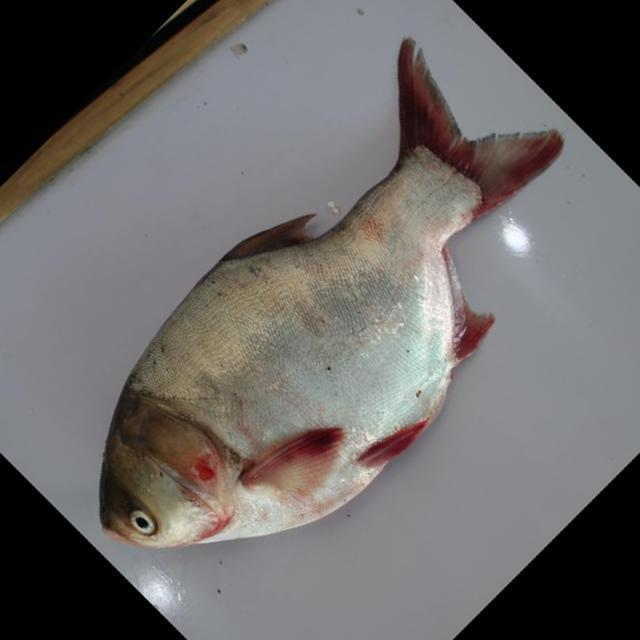SilverCarp: (72, 30, 597, 565)
